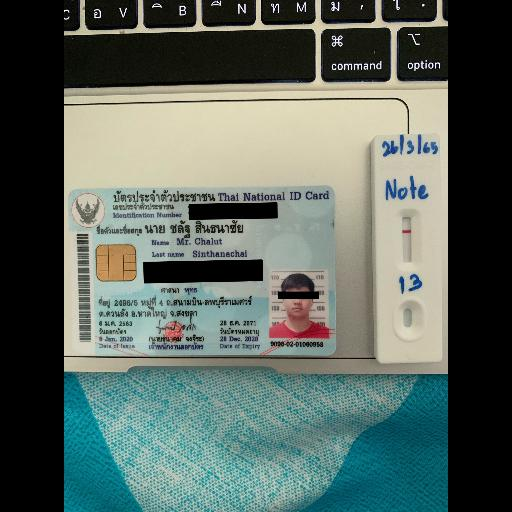Neg: (374, 135, 440, 361)
